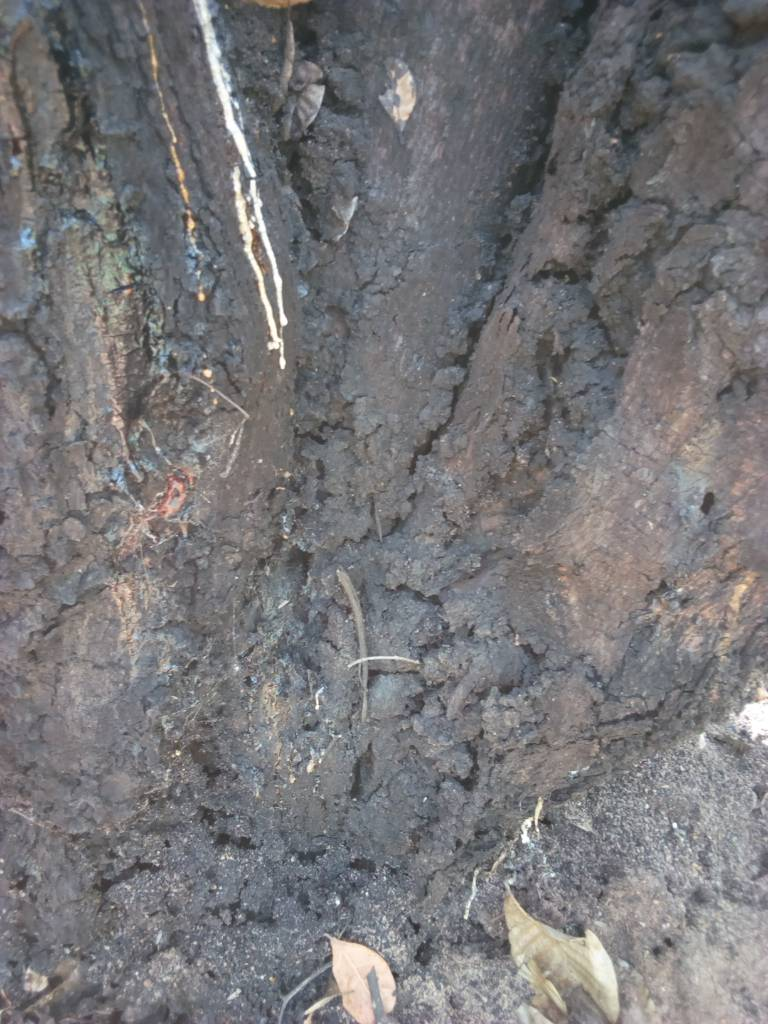Termites: (279, 30, 740, 550), (8, 550, 621, 861)
